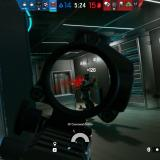Character: (79, 73, 97, 121)
Head: (84, 73, 90, 80)
